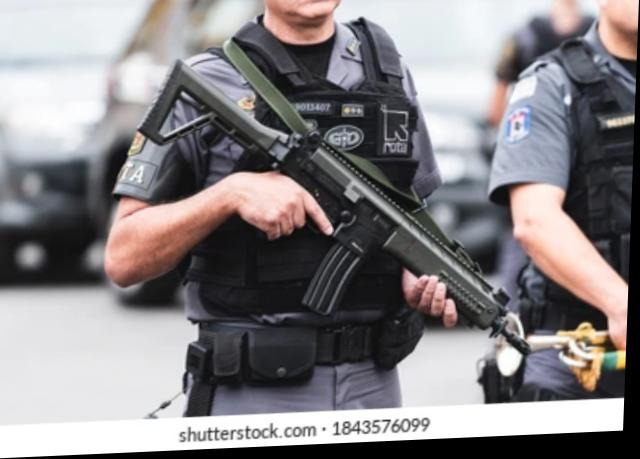other: (102, 0, 462, 415), (484, 0, 639, 412)
